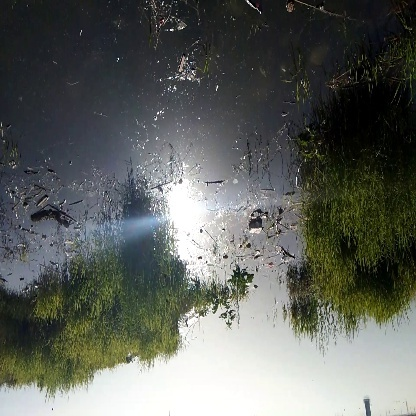plastic-garbage: (244, 209, 266, 241)
